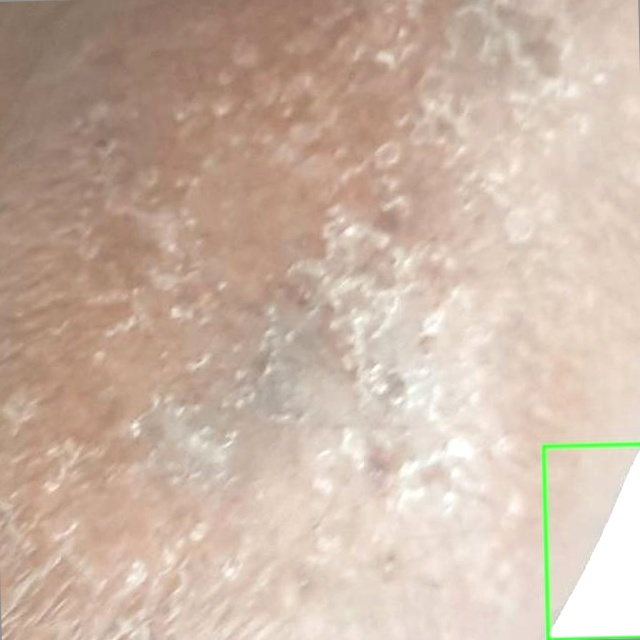Eczema: (543, 444, 639, 639)
